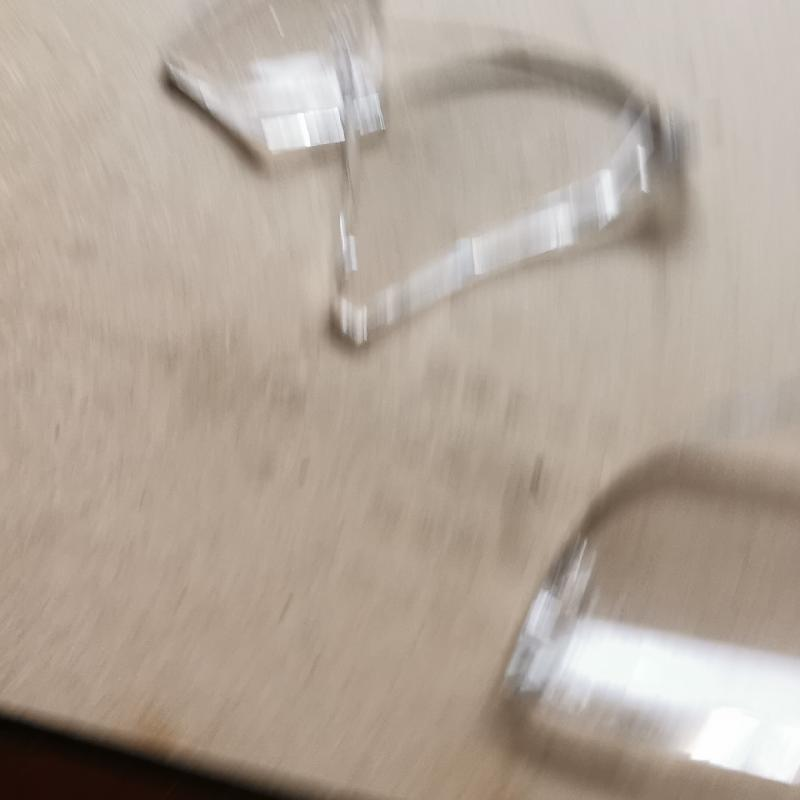glass: (178, 10, 696, 321), (527, 434, 800, 608)
